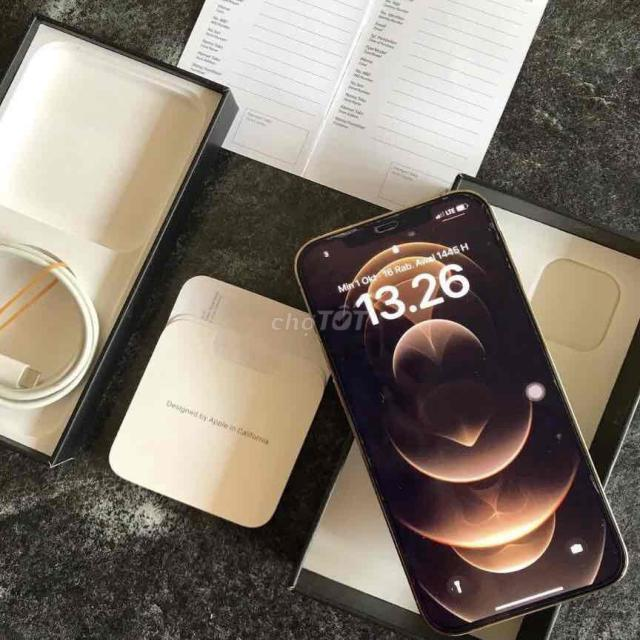physical_damage: (530, 339, 611, 517), (339, 408, 401, 533), (474, 196, 518, 272), (316, 215, 385, 249)
